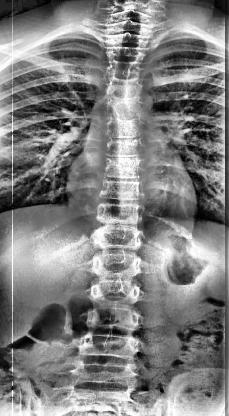Vertebrae: (76, 332, 140, 362), (88, 255, 144, 280), (87, 282, 143, 304), (87, 307, 141, 329), (94, 226, 144, 249), (97, 202, 148, 223), (100, 180, 146, 202), (103, 158, 149, 180), (104, 78, 148, 100), (106, 96, 146, 120), (106, 118, 145, 142), (106, 138, 146, 158), (105, 61, 147, 80), (106, 44, 148, 61), (108, 32, 148, 46)
